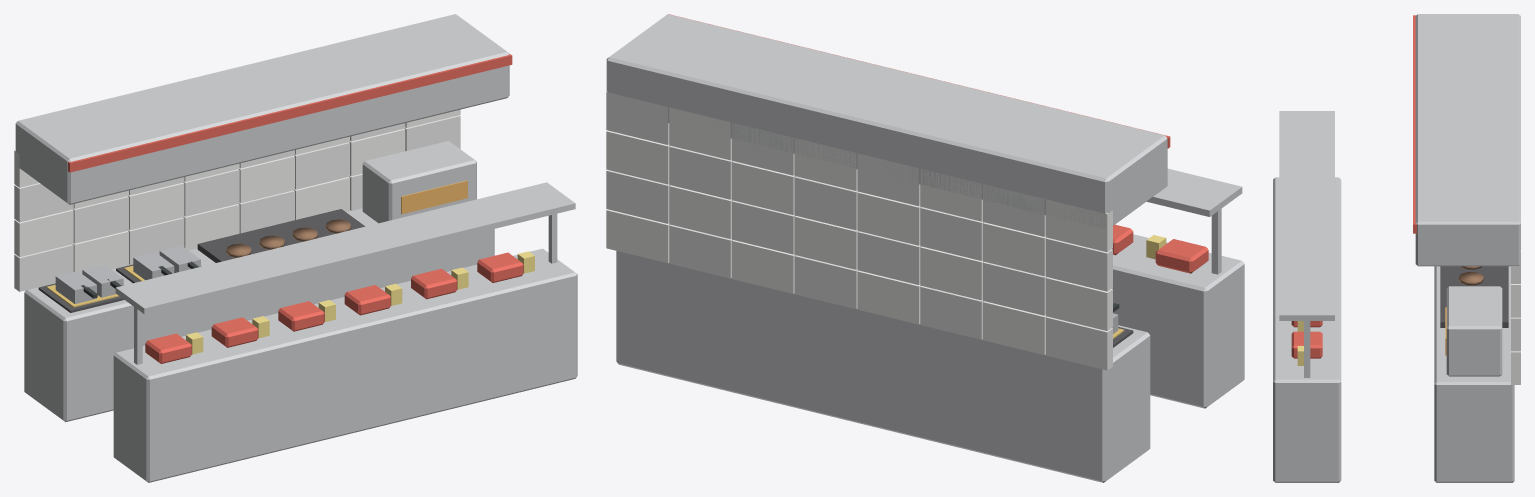
File: kitchen-burger.glb
The picture shows the model from 3 angles, left to right: view 1: azimuth 30°, elevation 25°; view 2: azimuth 150°, elevation 25°; view 3: azimuth 270°, elevation 25°; orthographic projection. The views are drawn at different scales.
Visible parts, largest first — view 1: kitchen-burger; view 2: kitchen-burger; view 3: kitchen-burger.
Part boxes in pixels (box(x1,y1,x2,y2)): kitchen-burger: box(14, 14, 577, 482); kitchen-burger: box(606, 14, 1244, 482); kitchen-burger: box(1273, 14, 1520, 482).
Size of the model in its own units: 4 by 2.35 by 2.
